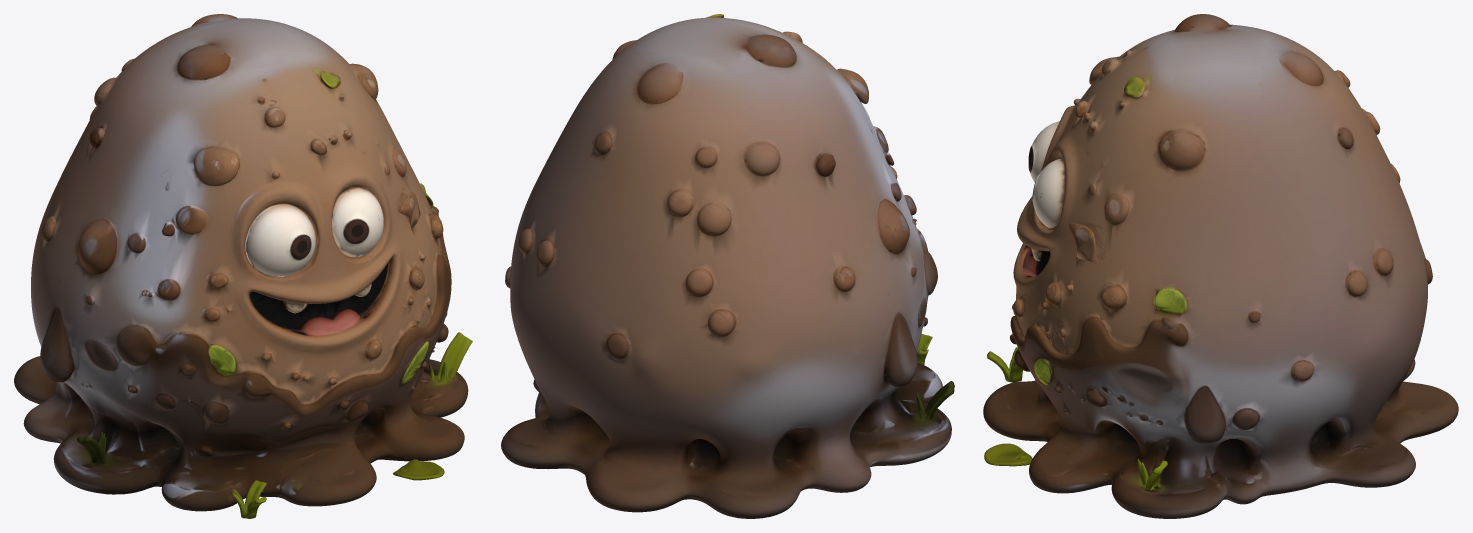
The model's file is C03_mud_slime_hy.glb.
3 views of the same model, side by side, from view 1: azimuth 30°, elevation 25°; view 2: azimuth 150°, elevation 25°; view 3: azimuth 270°, elevation 25° (orthographic).
Visible parts, largest first — view 1: C03_mud_slime_hy; view 2: C03_mud_slime_hy; view 3: C03_mud_slime_hy.
Boxes of the visible parts, x1,y1,x2,y2 form: C03_mud_slime_hy: (14, 14, 472, 518); C03_mud_slime_hy: (501, 14, 954, 518); C03_mud_slime_hy: (983, 14, 1458, 518).
Size of the model in its own units: 0.8515 by 0.7827 by 0.8681.
Materials: 1 (1 with a texture image).
